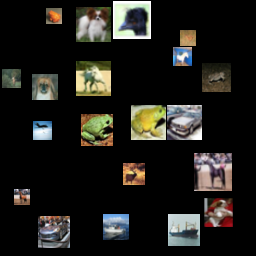airplane: (198, 17, 230, 49), (131, 193, 160, 222), (84, 137, 106, 159), (58, 160, 77, 179)
automobile: (139, 109, 171, 141), (94, 112, 116, 134)
bird: (47, 119, 82, 154), (109, 144, 131, 166)
cat: (145, 35, 183, 73)
deer: (22, 206, 57, 241)
dog: (195, 197, 233, 235), (167, 196, 186, 215)
frog: (72, 31, 104, 63), (170, 76, 202, 108), (66, 188, 95, 217), (120, 80, 139, 99)
ship: (5, 10, 43, 48)
